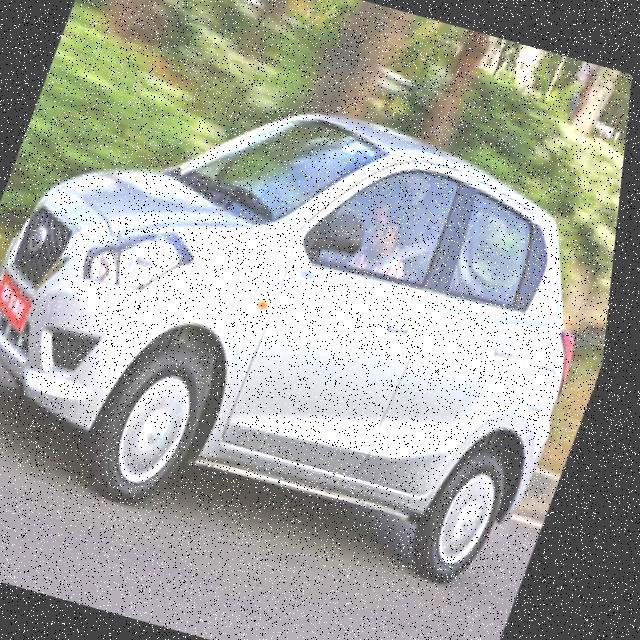license_plate: (0, 275, 53, 330)
